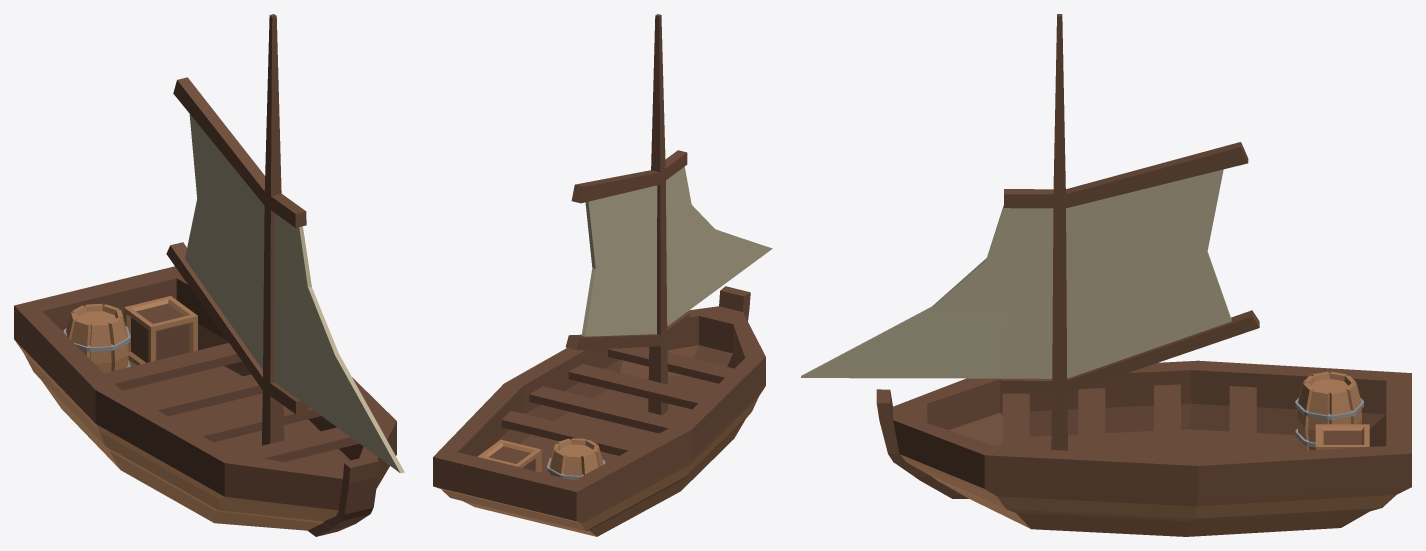
The model's file is Sail Boat.glb.
The picture shows the model from 3 angles, left to right: view 1: azimuth 30°, elevation 25°; view 2: azimuth 150°, elevation 25°; view 3: azimuth 270°, elevation 25°; orthographic projection. The views are drawn at different scales.
Parts seen in each view (by area): view 1: Boat.001, Sail; view 2: Boat.001, Sail; view 3: Boat.001, Sail.
Part boxes in pixels (box(x1,y1,x2,y2)): Boat.001: box(14, 266, 396, 536); Sail: box(166, 14, 404, 473); Boat.001: box(433, 286, 765, 536); Sail: box(565, 14, 772, 415); Boat.001: box(876, 360, 1411, 536); Sail: box(801, 14, 1259, 450).
Size of the model in its own units: 0.4032 by 0.8547 by 0.989.
